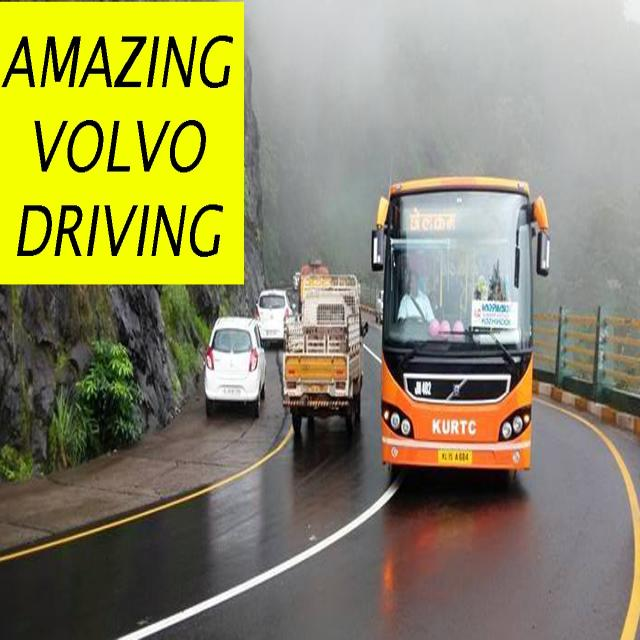BUS: (396, 169, 546, 491)
